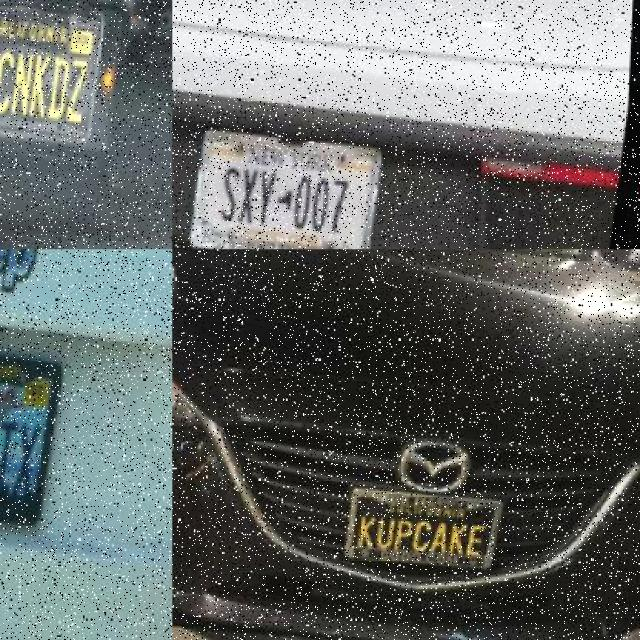licenseplate: (191, 128, 388, 249), (0, 339, 97, 523), (0, 0, 106, 143), (346, 486, 508, 567)
